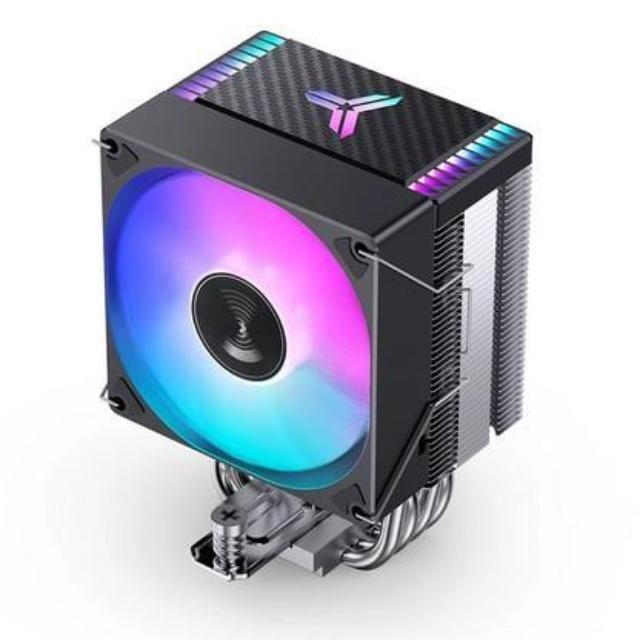CPU_Fan: (93, 29, 533, 572)
